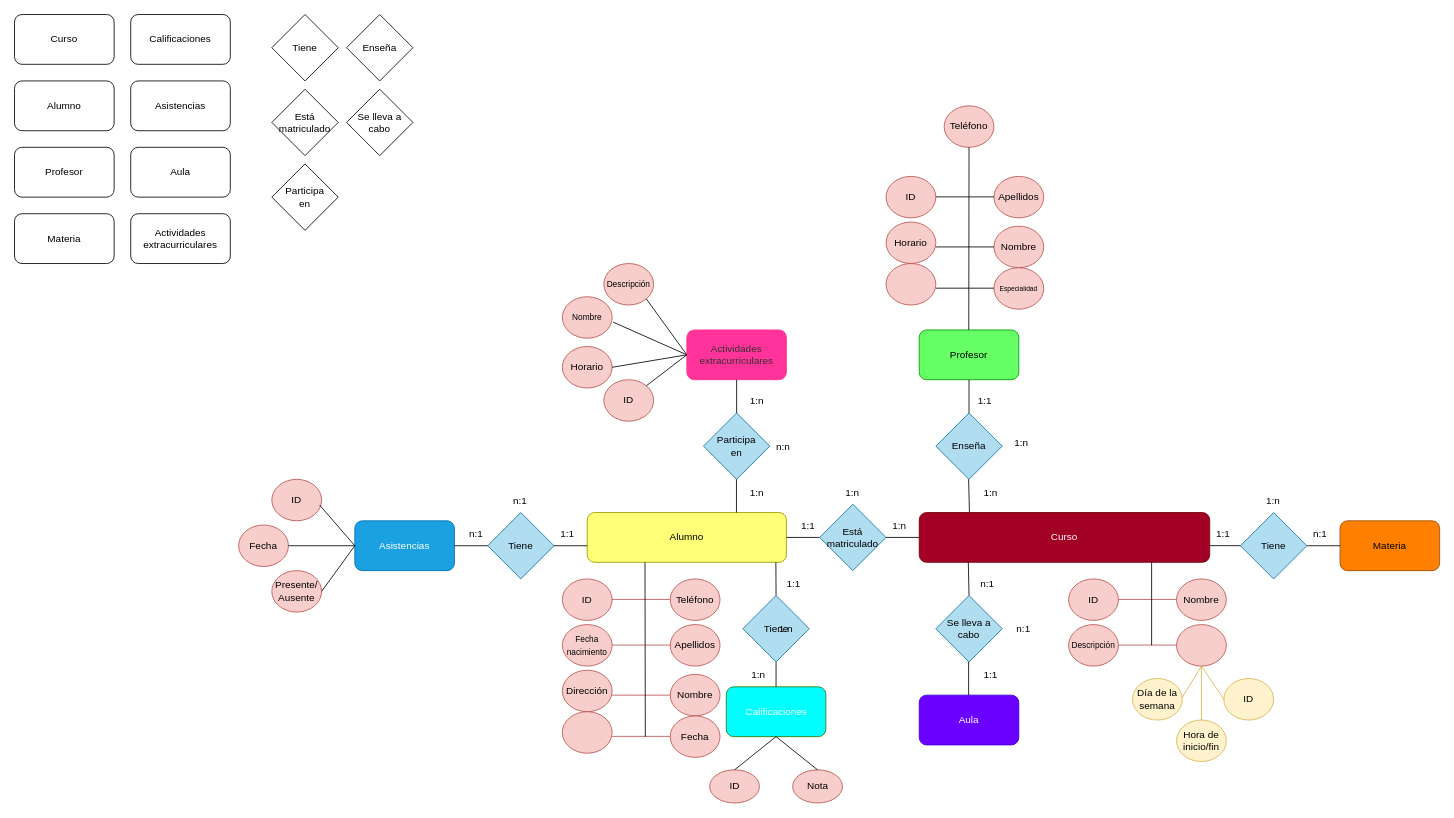
Image size: 1454x818. Some labels were removed from this diagram. Each missing label, with the centre of its shape:
"Emails" belongs at point 910,284.
"Horarios" belongs at point 1201,645.
"Matrícula ID" belongs at point 586,732.
